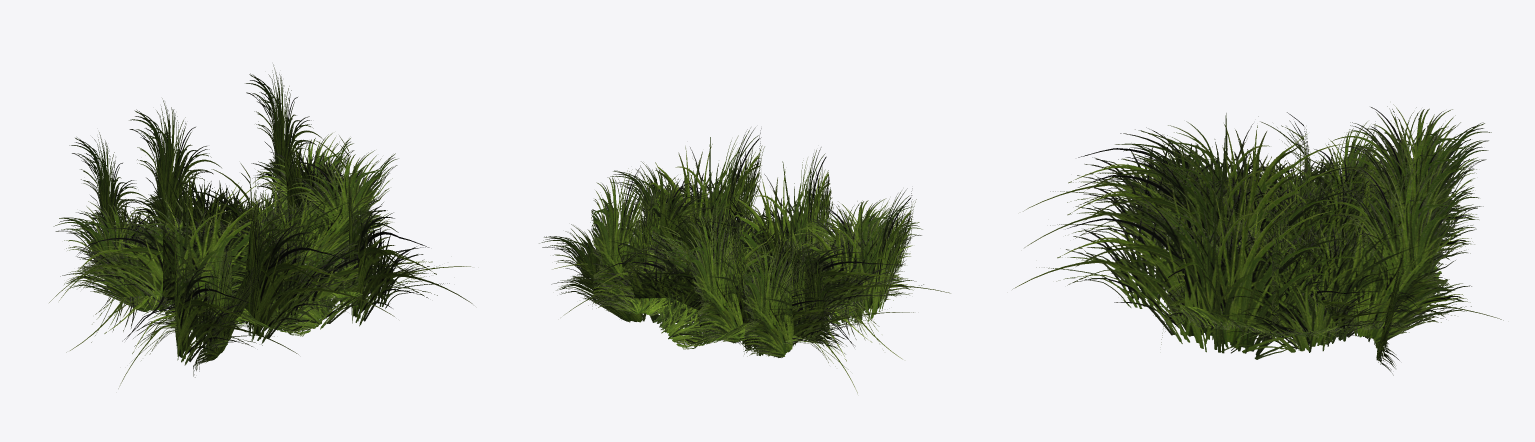
Rendered from Grass2.fbx.
The picture shows the model from 3 angles, left to right: view 1: azimuth 30°, elevation 25°; view 2: azimuth 150°, elevation 25°; view 3: azimuth 270°, elevation 25°; orthographic projection. The views are drawn at different scales.
Parts seen in each view (by area): view 1: polySurface76; view 2: polySurface76; view 3: polySurface76.
Boxes of the visible parts, x1=… form: polySurface76: x1=49, y1=64, x2=472, y2=388; polySurface76: x1=539, y1=127, x2=950, y2=393; polySurface76: x1=1012, y1=104, x2=1503, y2=375.
Size of the model in its own units: 0.0302 by 0.0179 by 0.0303.
